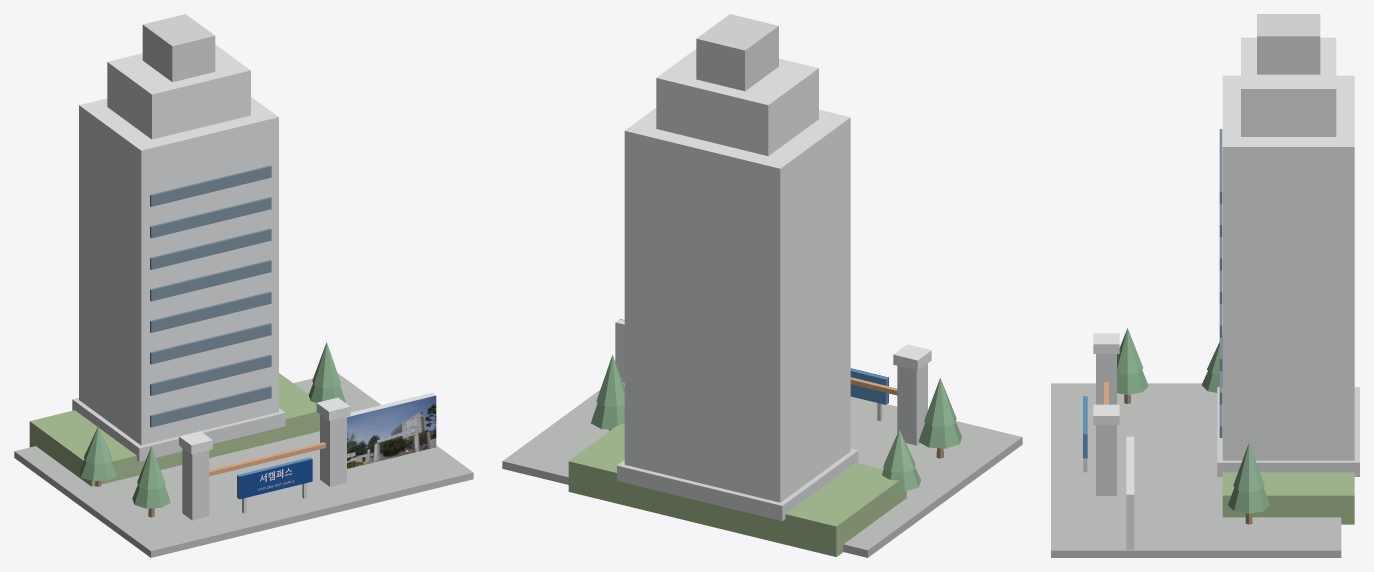
The model's file is building.glb.
3 renders of one model, left to right at view 1: azimuth 30°, elevation 25°; view 2: azimuth 150°, elevation 25°; view 3: azimuth 270°, elevation 25°, orthographic. The views are drawn at different scales.
Bounding box in the file's own units: 15 × 18.3 × 11.7.
13 materials, 2 textured.
